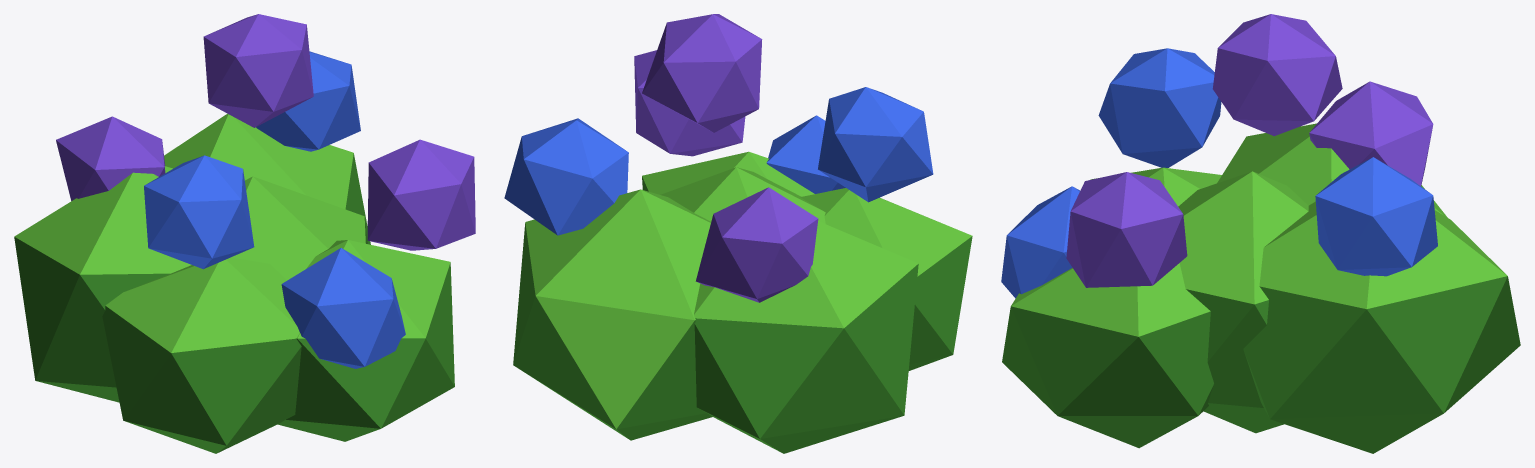
File: Hydrangea.fbx
3 renders of one model, left to right at view 1: azimuth 30°, elevation 25°; view 2: azimuth 150°, elevation 25°; view 3: azimuth 270°, elevation 25°, orthographic. The views are drawn at different scales.
Parts seen in each view (by area): view 1: Hydrangea; view 2: Hydrangea; view 3: Hydrangea.
Part boxes in pixels (x1,y1,x2,y2): Hydrangea: [14, 14, 475, 453]; Hydrangea: [504, 14, 972, 453]; Hydrangea: [1001, 14, 1520, 453].
Bounding box in the file's own units: 3.16 × 3.36 × 3.74.
1 material, 1 textured.
